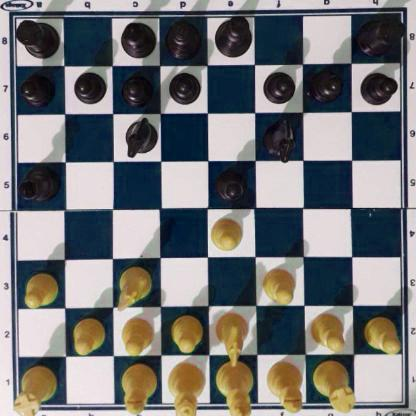black-bishop: (16, 165, 62, 201), (118, 19, 157, 56)
black-king: (214, 14, 254, 59)
black-knight: (263, 116, 296, 160), (124, 116, 156, 155)
black-pawn: (360, 69, 396, 105), (215, 166, 248, 201), (168, 67, 199, 104), (20, 71, 54, 104), (263, 67, 295, 102), (311, 68, 343, 102), (121, 72, 152, 106), (73, 70, 104, 104)
black-queen: (164, 16, 202, 56)
black-rook: (358, 10, 402, 55), (12, 16, 59, 58)
white-bishop: (118, 360, 159, 416), (265, 361, 304, 416)
white-king: (215, 358, 256, 416)
white-knight: (214, 311, 250, 367), (115, 263, 151, 308)
white-pawn: (309, 310, 347, 350), (363, 314, 400, 351), (22, 271, 59, 307), (261, 266, 295, 304), (120, 316, 154, 354), (70, 315, 104, 352), (169, 313, 202, 351), (209, 216, 242, 250)
white-queen: (166, 361, 205, 416)
white-rook: (13, 363, 57, 415), (312, 363, 356, 414)
